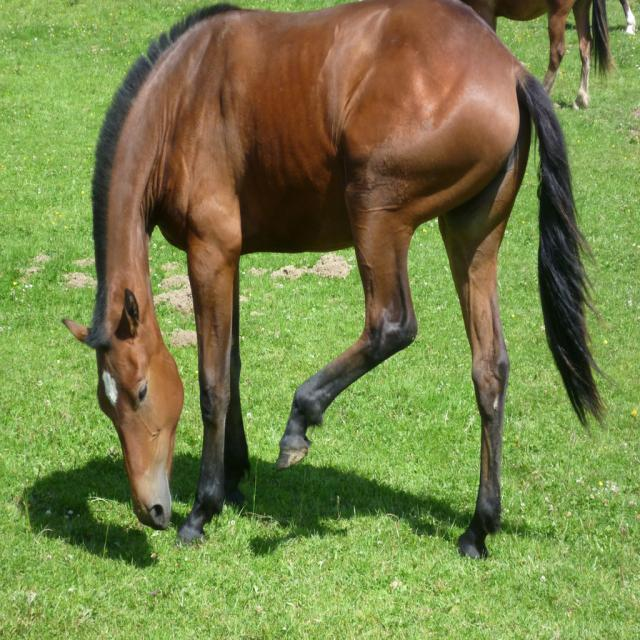Horse: (61, 0, 636, 562)
